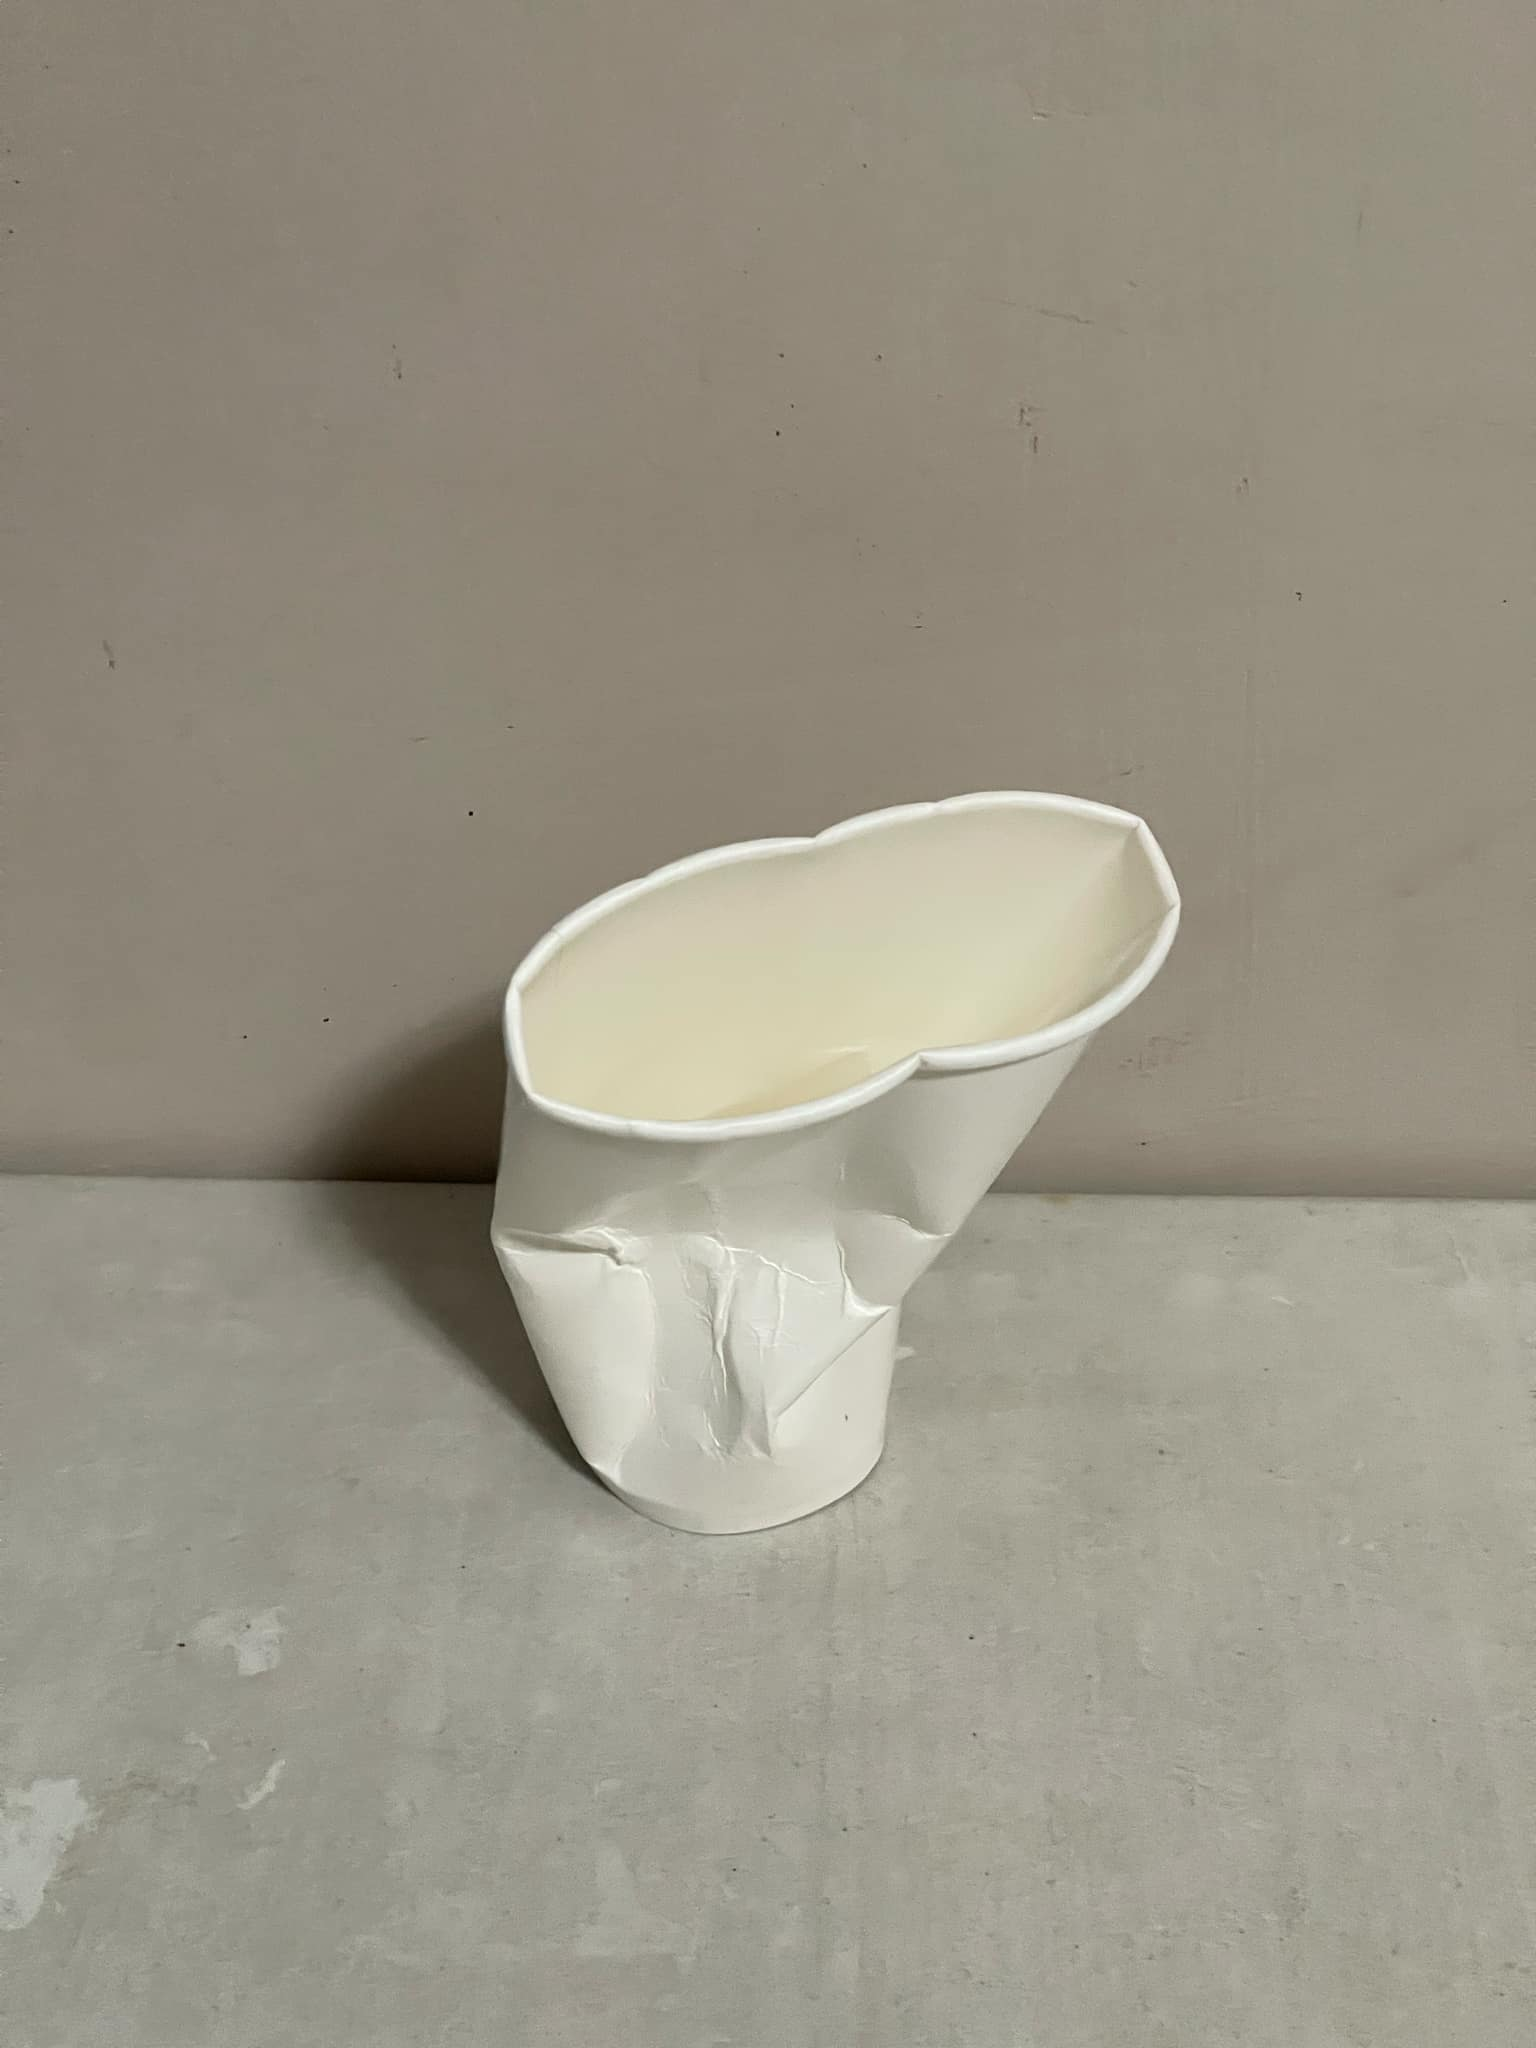Paper Food Packages: (419, 719, 1196, 1534)
